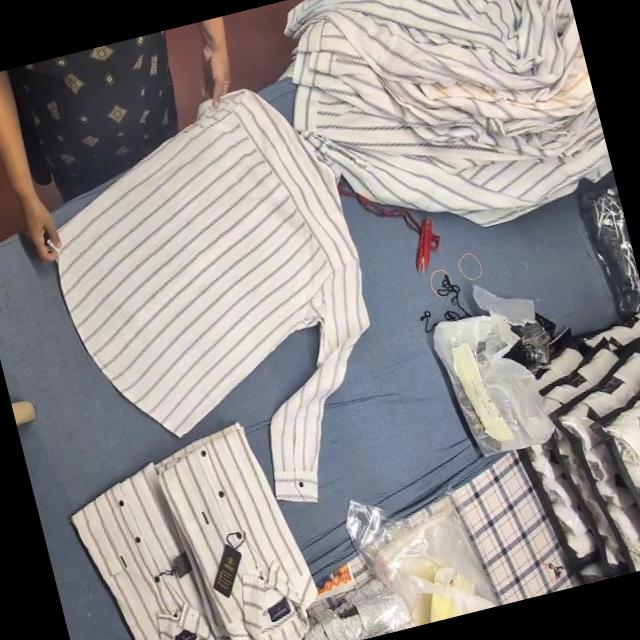new-garment: (58, 89, 368, 500)
